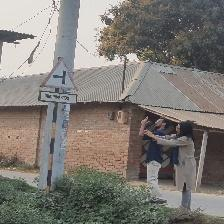Side-road-left: (38, 56, 79, 106)
